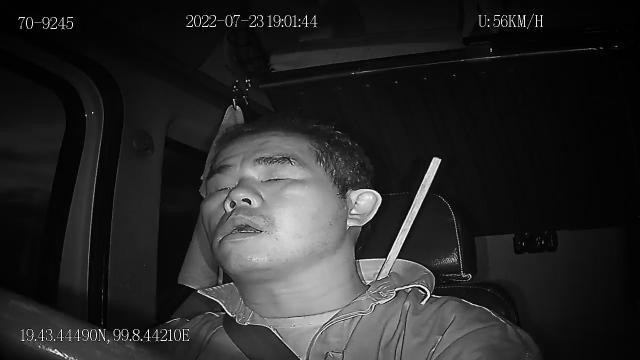Seatbelt: (222, 310, 304, 360)
